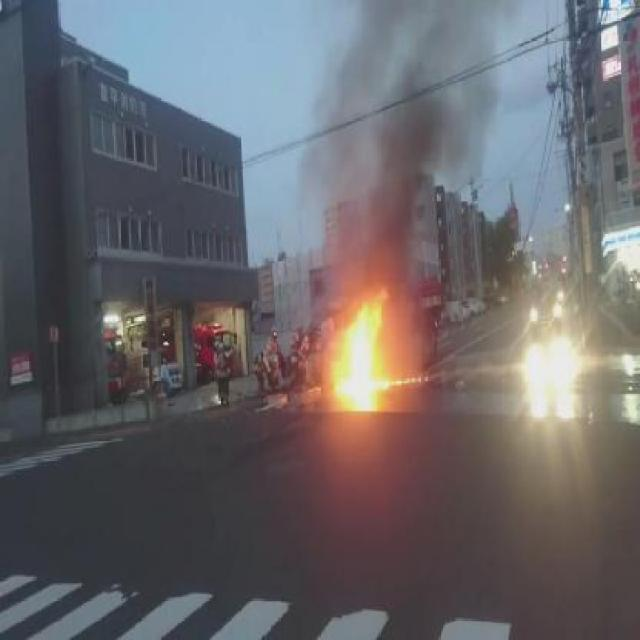Fire: (338, 294, 382, 416)
Smoke: (373, 32, 449, 292)
